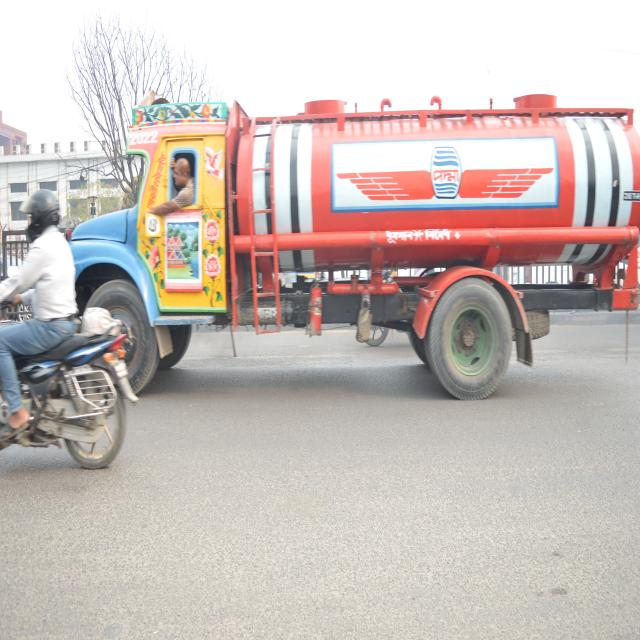motorbike: (0, 312, 154, 479)
truck: (60, 57, 640, 430)
